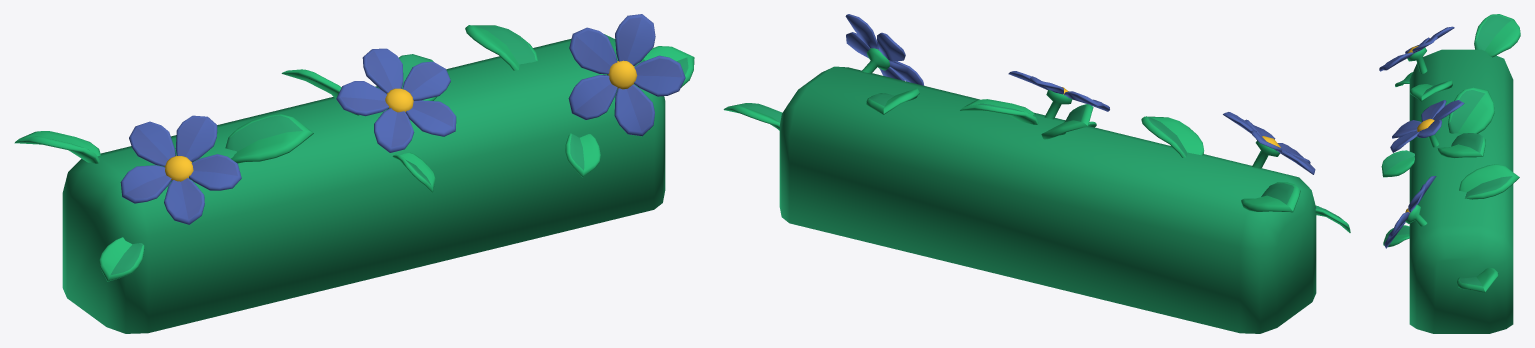
File: WindowBush_Blue.glb
3 views of the same model, side by side, from view 1: azimuth 30°, elevation 25°; view 2: azimuth 150°, elevation 25°; view 3: azimuth 270°, elevation 25° (orthographic). The views are drawn at different scales.
Visible parts, largest first — view 1: WindowBush_Blue; view 2: WindowBush_Blue; view 3: WindowBush_Blue.
Part boxes in pixels (x1,y1,x2,y2): WindowBush_Blue: (14,14,694,333); WindowBush_Blue: (723,14,1350,333); WindowBush_Blue: (1379,14,1520,333).
Bounding box in the file's own units: 0.8234 × 0.2303 × 0.215.
Materials: 1 (1 with a texture image).
